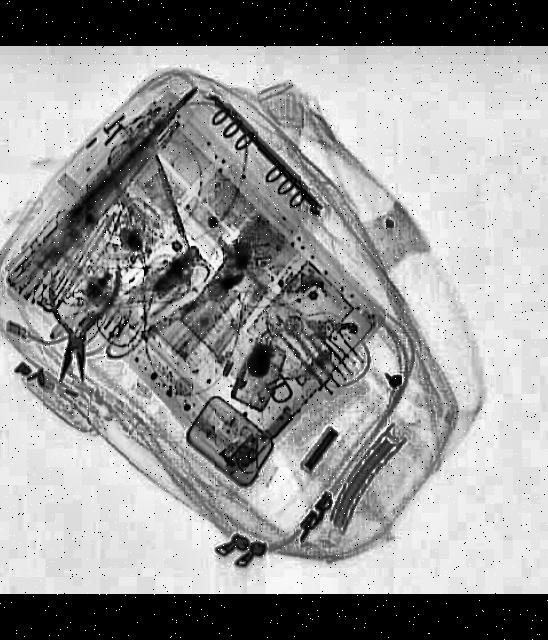Pliers: (39, 260, 123, 386)
